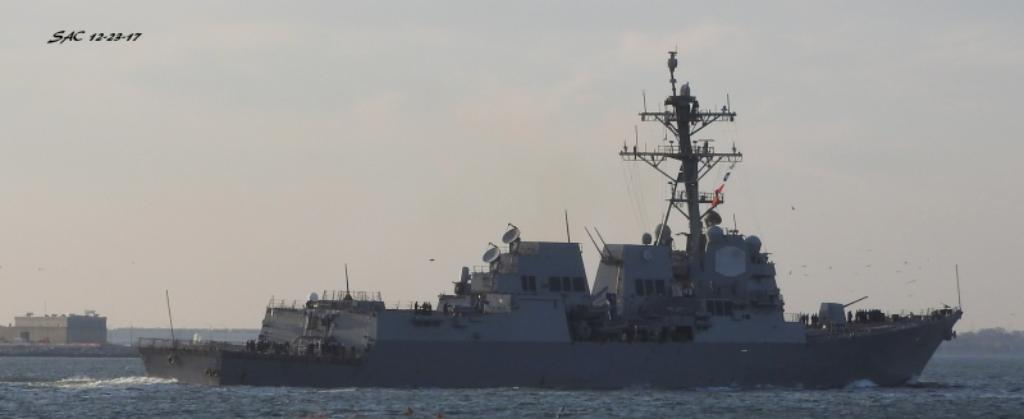Warship: (132, 46, 968, 394)
